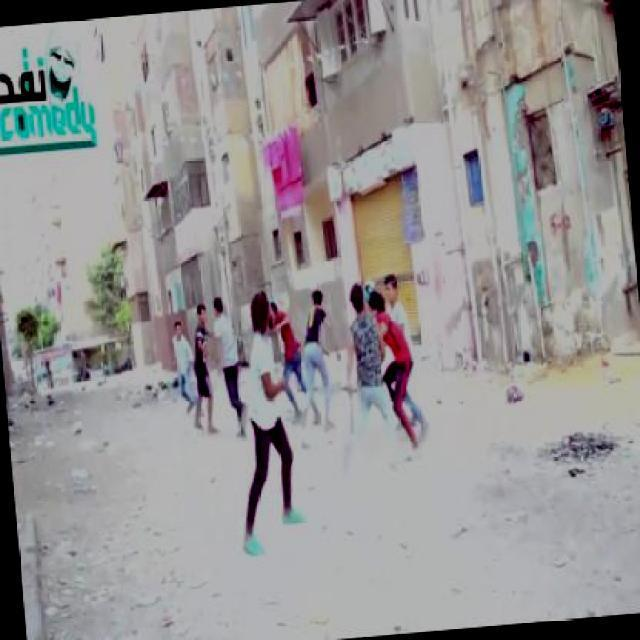fight: (335, 269, 428, 462)
non-fight: (222, 282, 312, 560), (294, 285, 340, 427), (210, 290, 252, 438), (183, 301, 220, 434), (168, 321, 201, 414)
